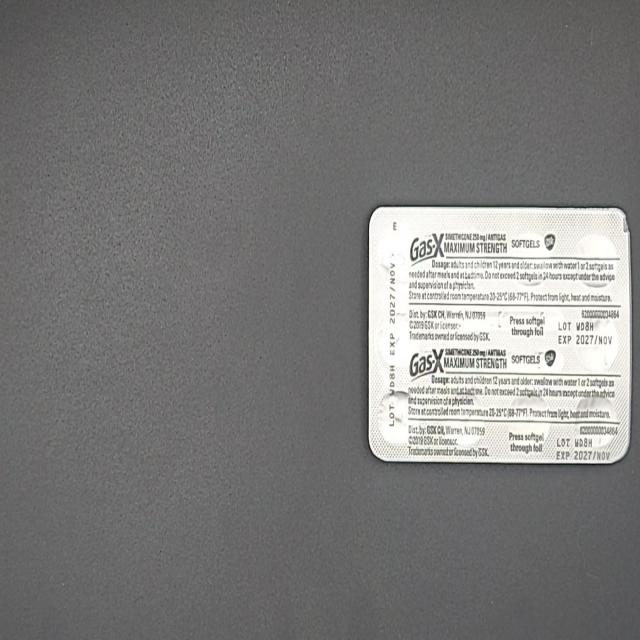no defect: (8, 19, 35, 74)
